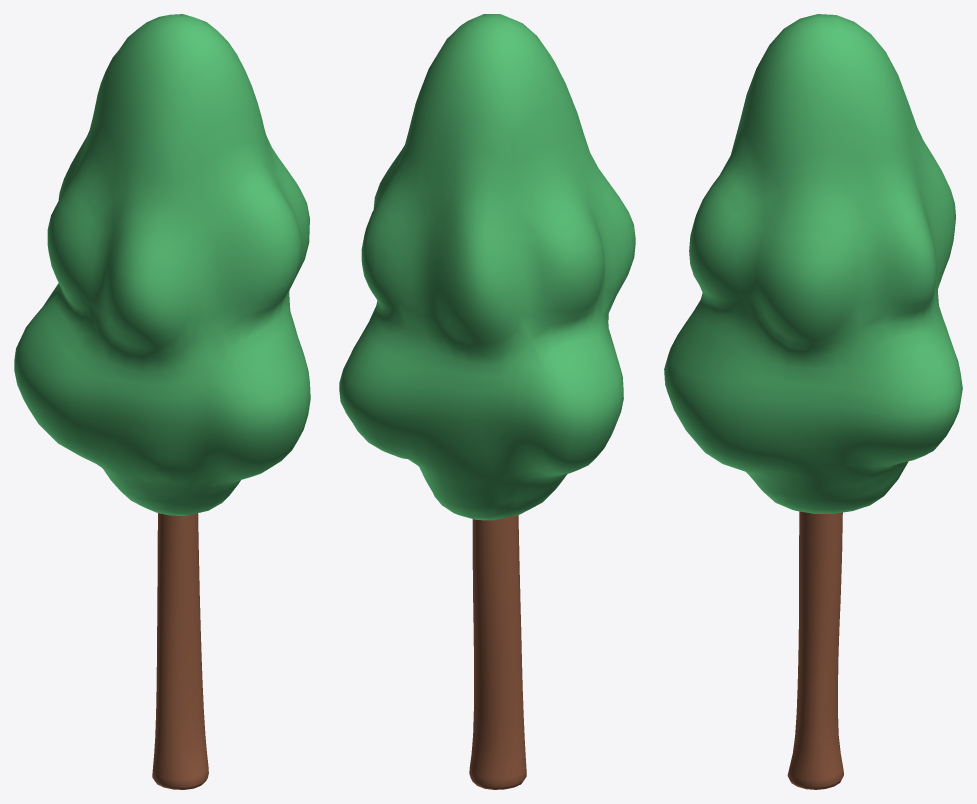
Rendered from Tree_E_01.fbx.
3 views of the same model, side by side, from view 1: azimuth 30°, elevation 25°; view 2: azimuth 150°, elevation 25°; view 3: azimuth 270°, elevation 25° (orthographic).
Visible parts, largest first — view 1: Tree_E_01_LOD0; view 2: Tree_E_01_LOD0; view 3: Tree_E_01_LOD0.
Part boxes in pixels (x1,y1,x2,y2): Tree_E_01_LOD0: (14,14,310,789); Tree_E_01_LOD0: (339,14,635,789); Tree_E_01_LOD0: (664,14,962,789).
Size of what is drawn, in the model's own units: 633 by 1814 by 643.
